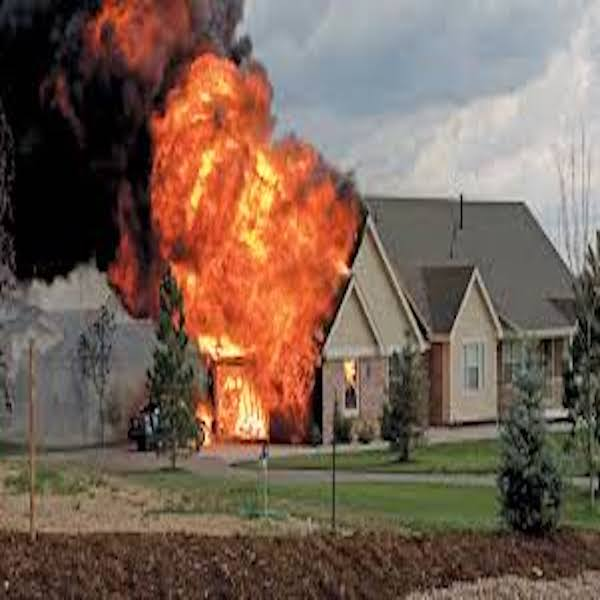fire: (100, 17, 331, 370), (204, 366, 322, 449)
